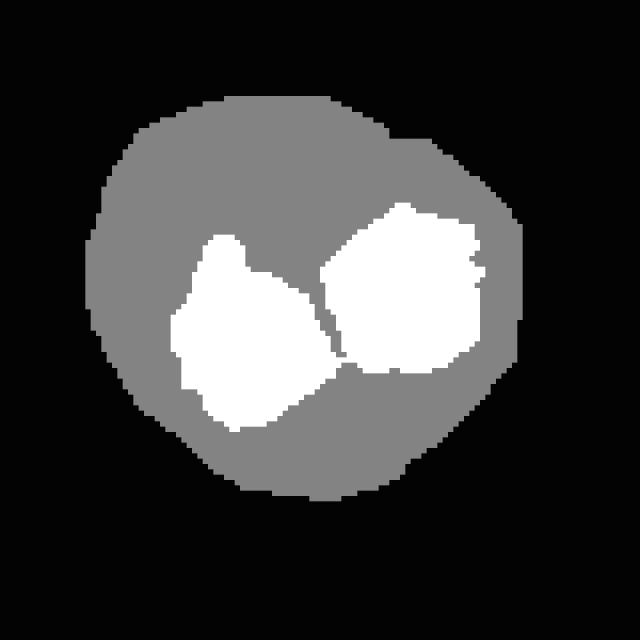WBC: (69, 75, 555, 528)
